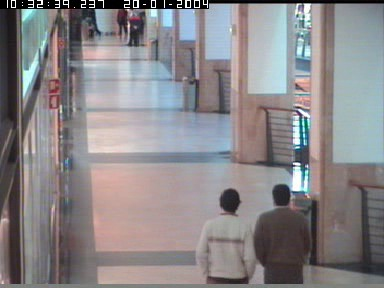person: (252, 183, 312, 284), (195, 188, 256, 284), (127, 10, 144, 47), (116, 9, 128, 41)
